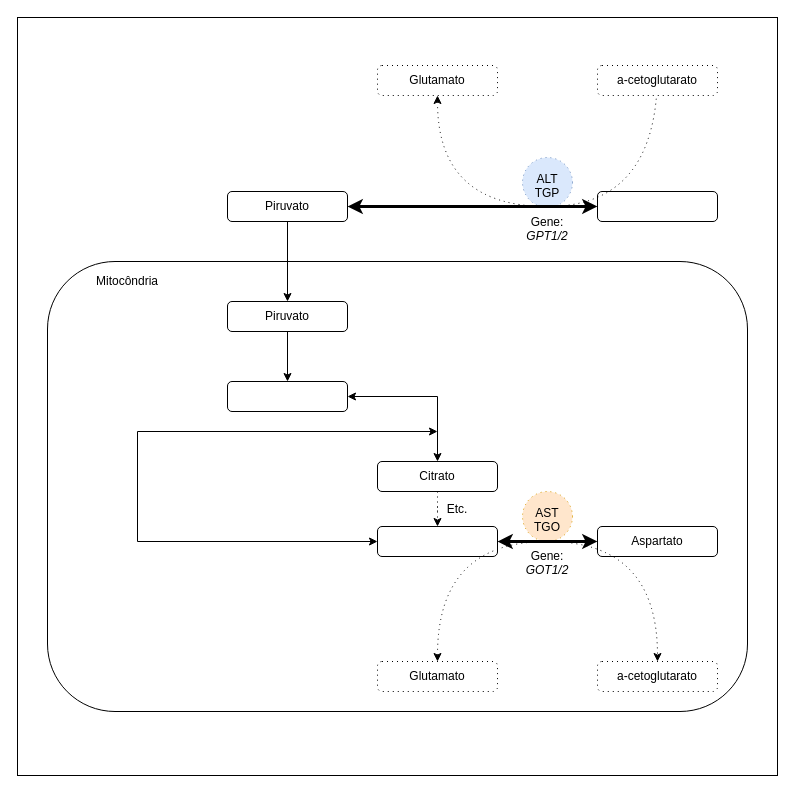
Image size: 795x793. Some labels were removed from this diagram. The centre of each missing label's shape, as x and y in pixels:
"Acetil-CoA" goes at (x=287, y=396).
"Alanina" goes at (x=657, y=206).
"Oxalacetato" goes at (x=437, y=541).
